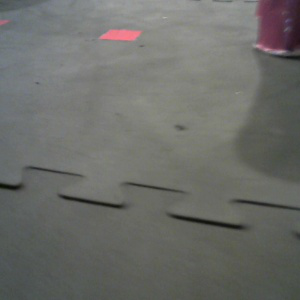Right: (249, 1, 300, 57)
